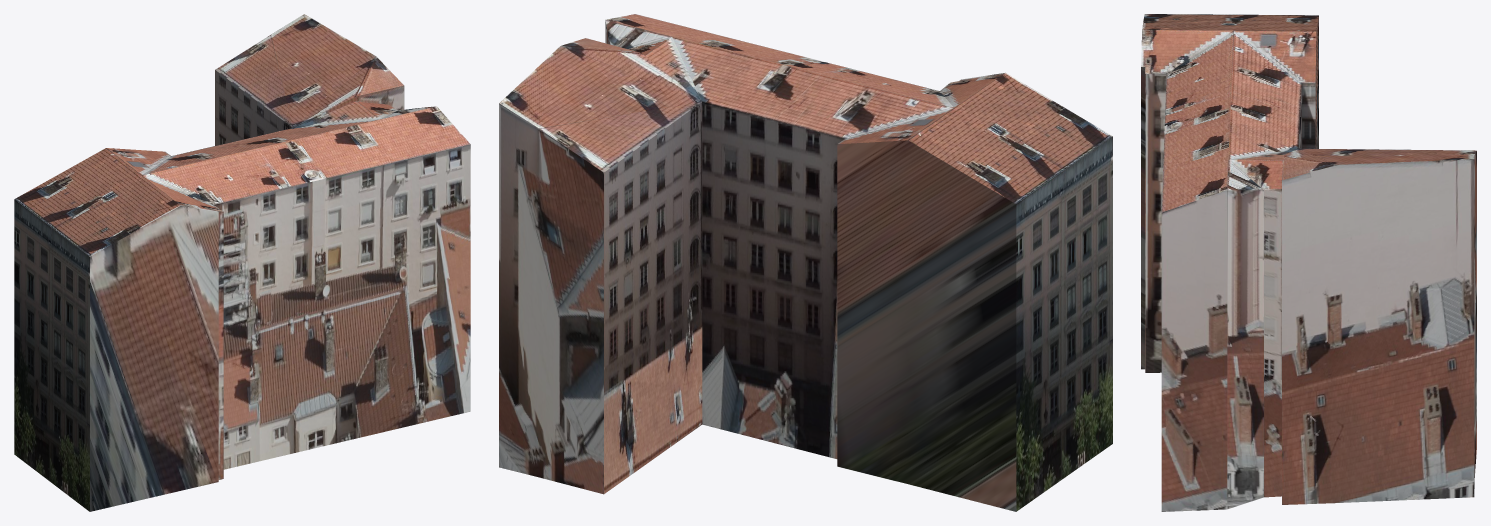
The picture shows the model from 3 angles, left to right: view 1: azimuth 30°, elevation 25°; view 2: azimuth 150°, elevation 25°; view 3: azimuth 270°, elevation 25°; orthographic projection. The views are drawn at different scales.
Parts seen in each view (by area): view 1: Z_UP; view 2: Z_UP; view 3: Z_UP.
Boxes of the visible parts, left/top/right/bottom form: Z_UP: left=14, top=14, right=470, bottom=511; Z_UP: left=499, top=14, right=1112, bottom=511; Z_UP: left=1141, top=14, right=1476, bottom=511.
Size of the model in its own units: 39.23 by 29.14 by 26.22.
2 materials, 1 textured.
